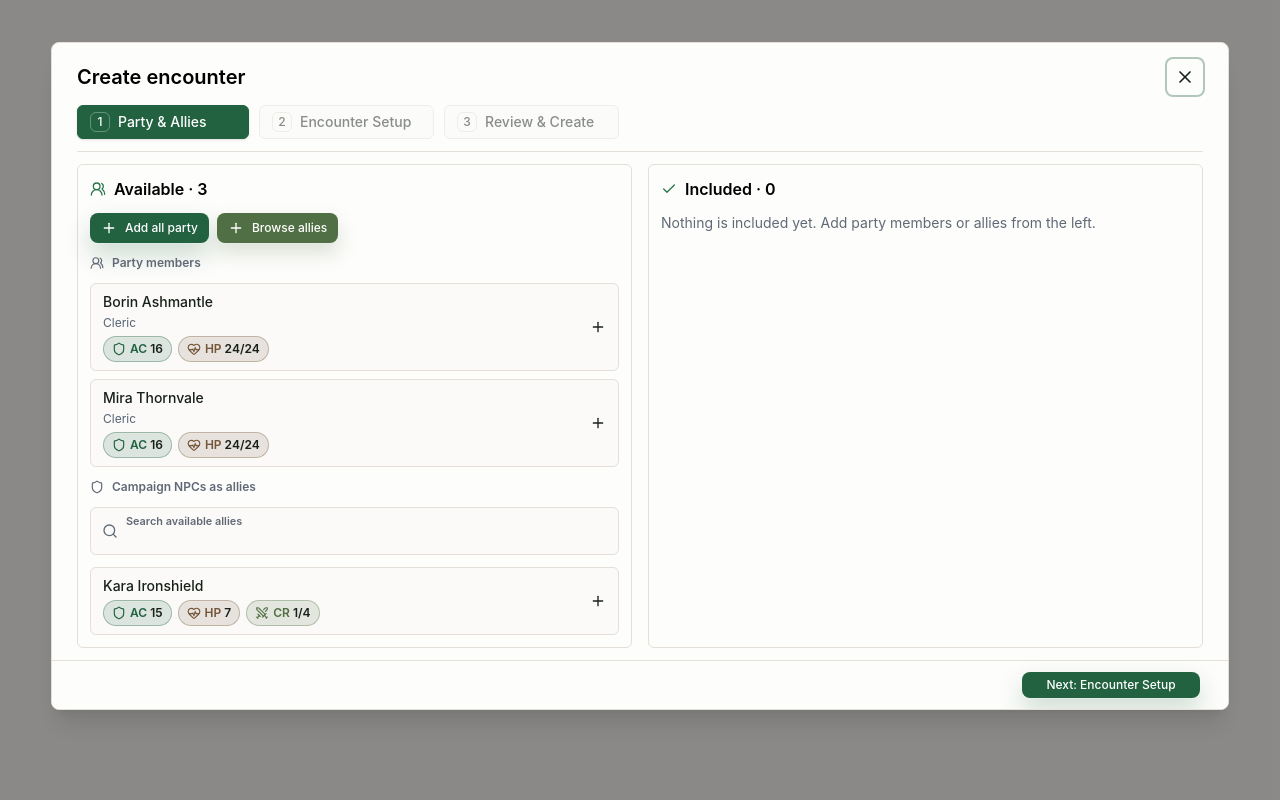
it: CampaignEncounterCreateDialog › moves party members and campaign NPCs between Available and Included
Expected: the text "Included · 0" is shown, [661, 177, 776, 201]
Step 1. Click the button "Add all party" → (149, 228), box [90, 213, 209, 243]
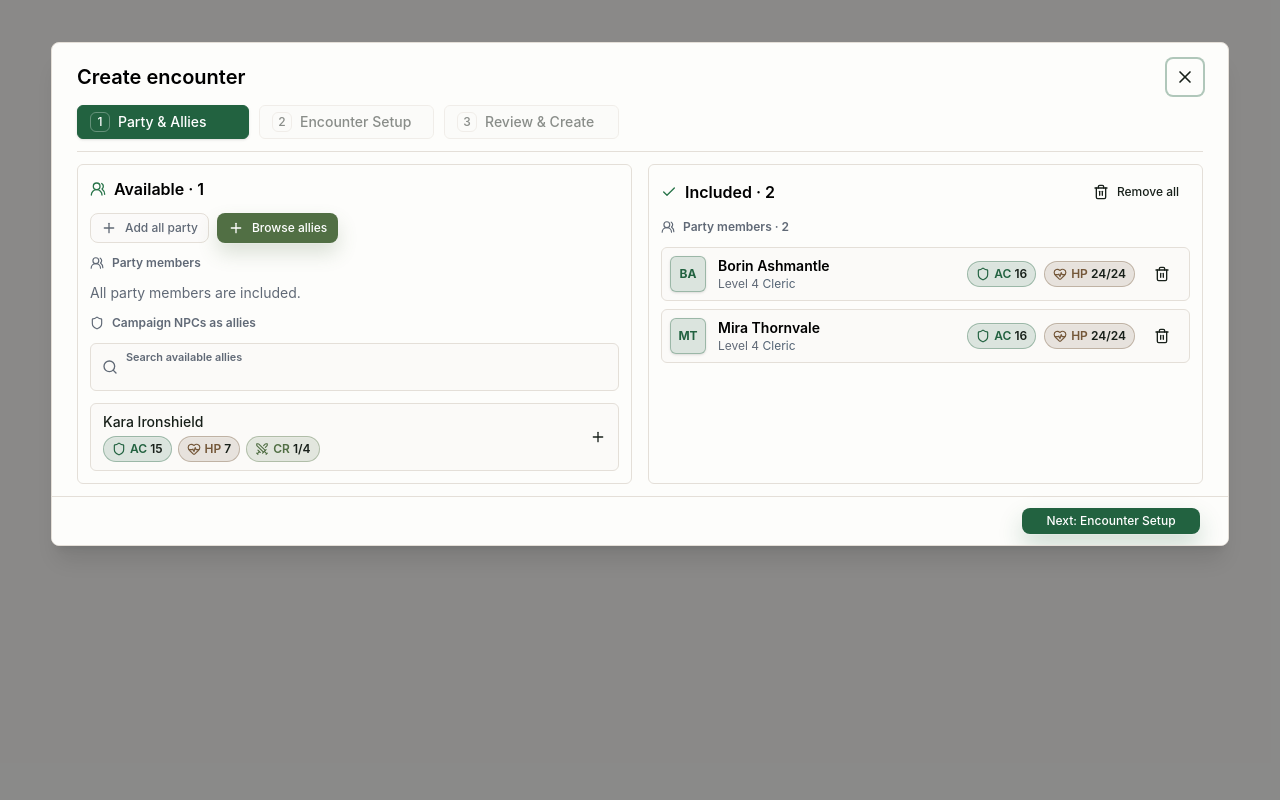
Expected: the text "Included · 2" is shown, [661, 180, 775, 204]
Step 2. Click the button named "Remove Borin Ashmantle" → (1162, 274), box [1143, 259, 1181, 289]
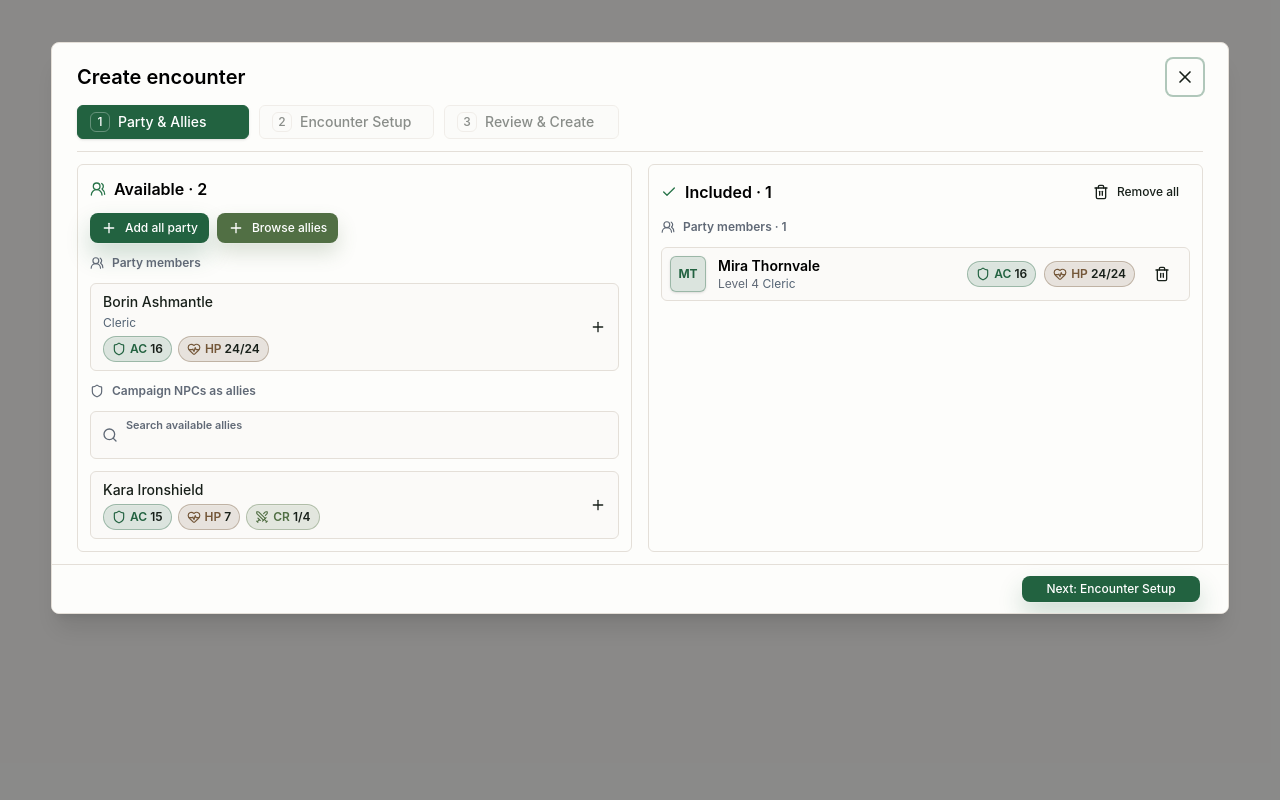
Expected: the button with aria-label "Add Borin Ashmantle" is shown, [90, 283, 619, 371]
Step 3. Click the button with aria-label "Add Kara Ironshield as ally" → (153, 490), box [90, 471, 619, 539]
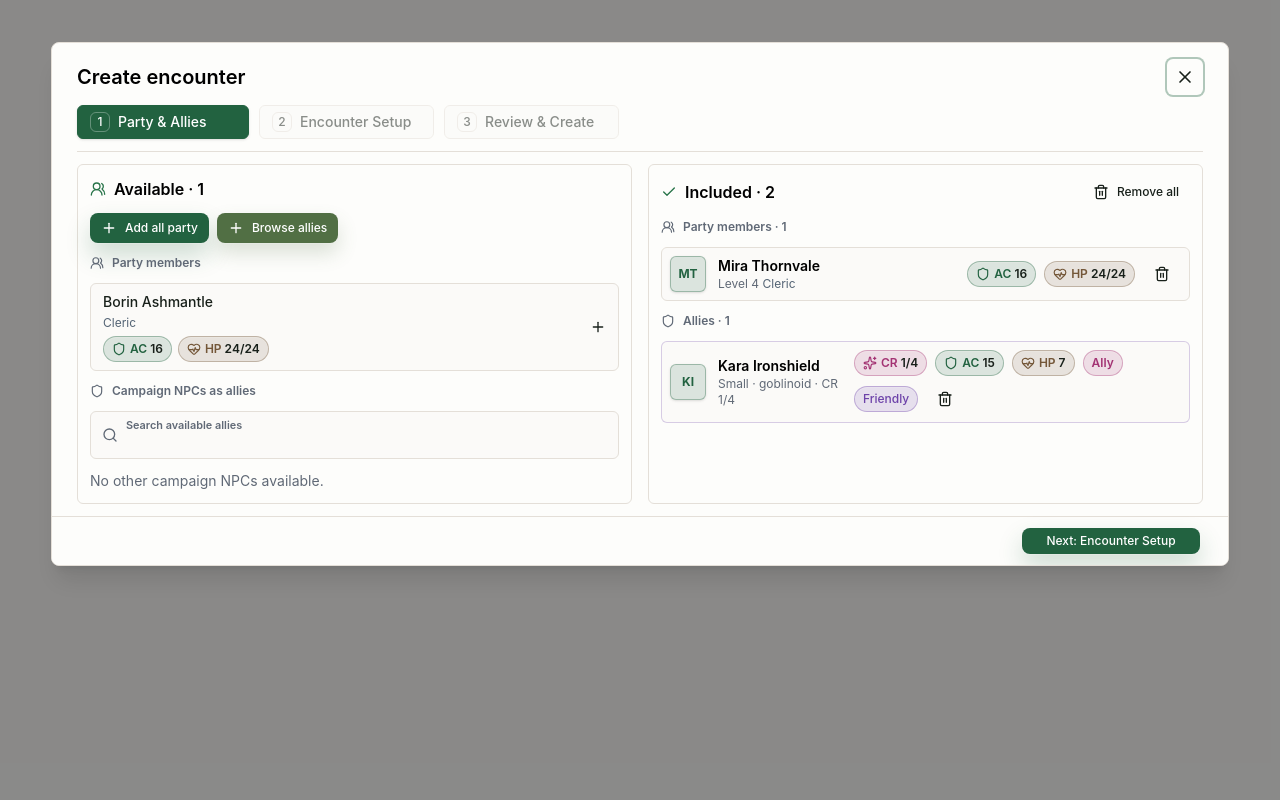
Expected: the button named "Remove Kara Ironshield" is shown
Step 4. Click the button named "Remove Kara Ironshield" → (945, 399), box [926, 384, 964, 414]
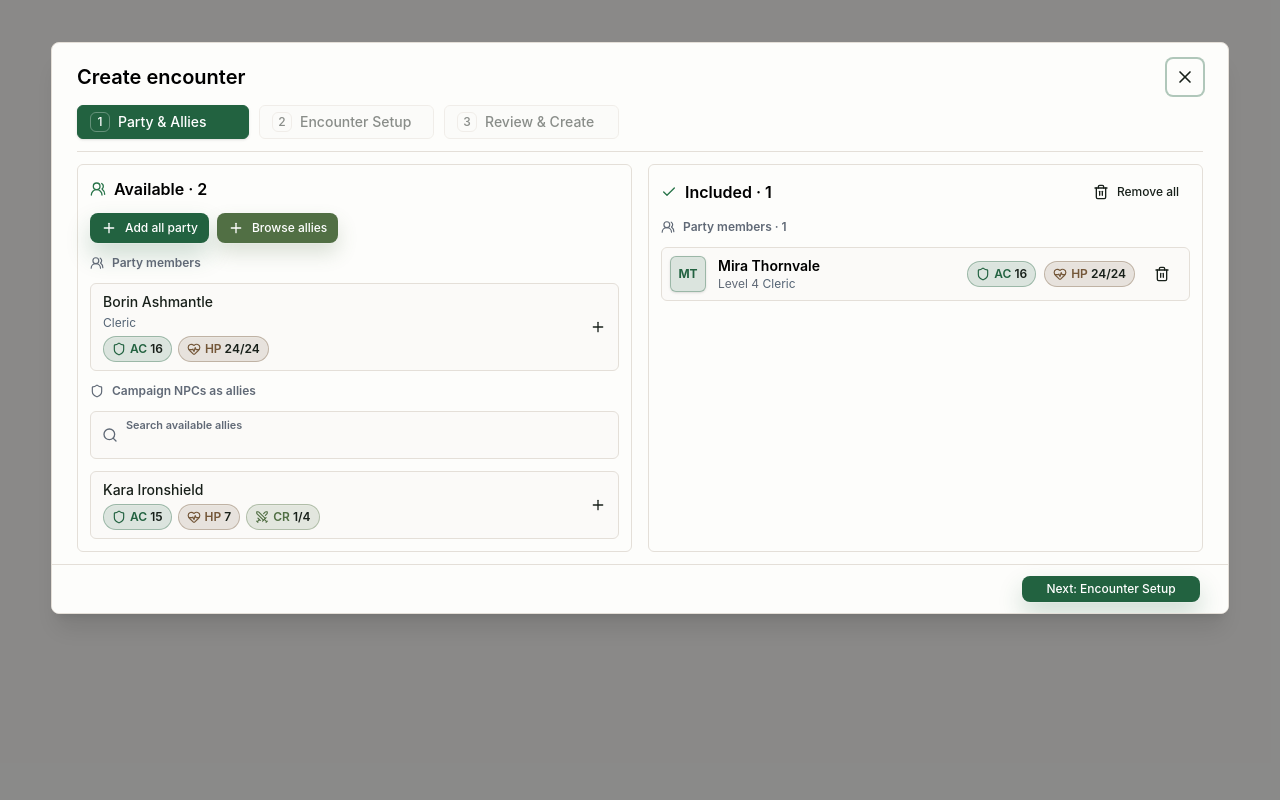
Expected: the button with aria-label "Add Kara Ironshield as ally" is shown, [90, 471, 619, 539]
